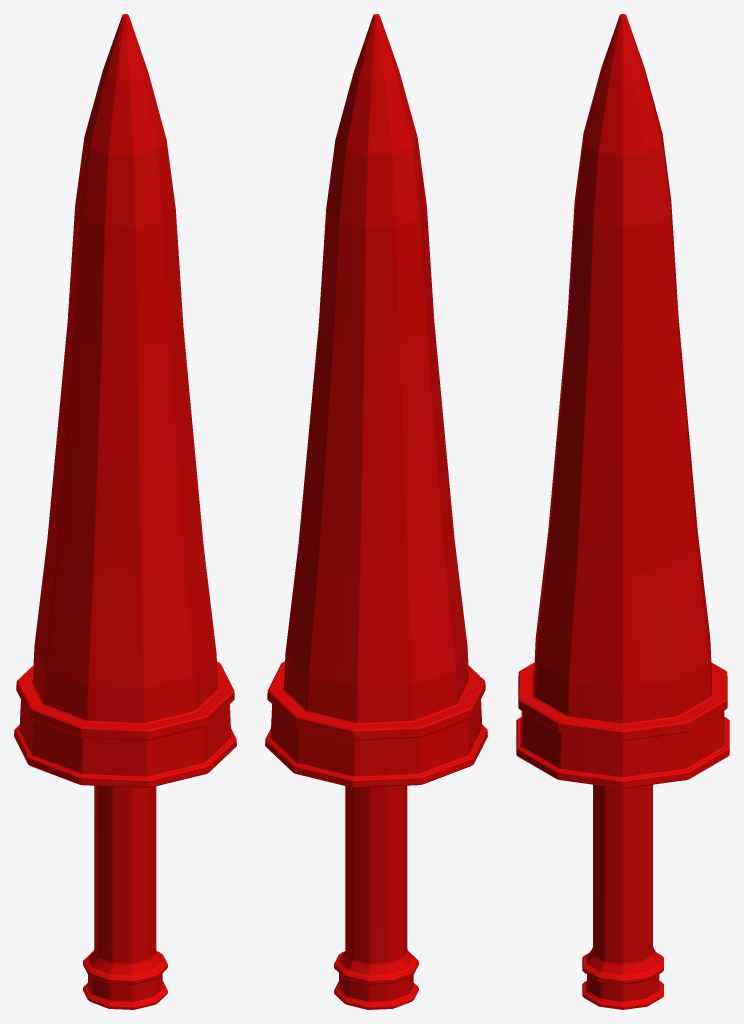
The model's file is Mod_Lance_lv_1-5.fbx.
3 views of the same model, side by side, from view 1: azimuth 30°, elevation 25°; view 2: azimuth 150°, elevation 25°; view 3: azimuth 270°, elevation 25° (orthographic).
Visible parts, largest first — view 1: polySurface5; view 2: polySurface5; view 3: polySurface5.
Boxes of the visible parts, x1=… form: polySurface5: x1=14, y1=14, x2=236, y2=1009; polySurface5: x1=265, y1=14, x2=487, y2=1009; polySurface5: x1=516, y1=14, x2=729, y2=1009.
Bounding box in the file's own units: 19.2 × 92.53 × 18.32.
